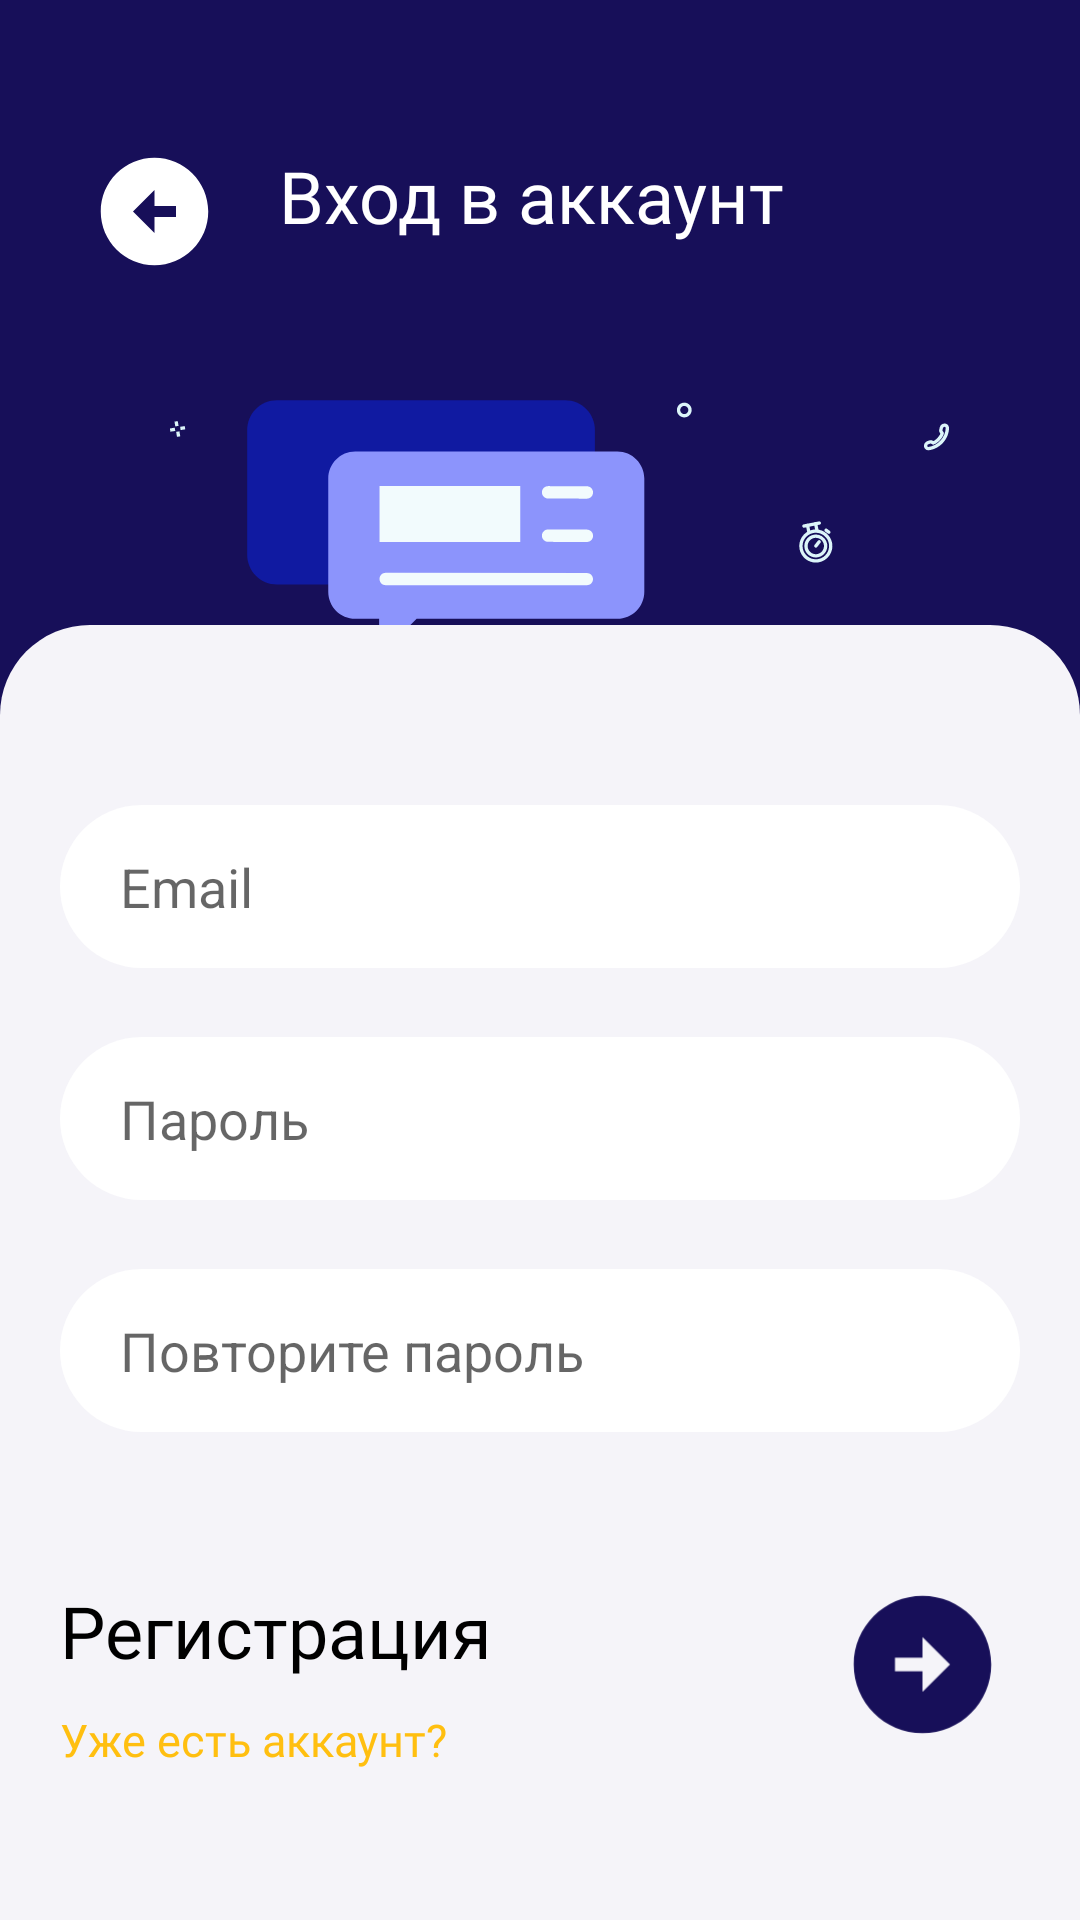

Named icons in this screenshot (1080 × 1920) and their centers, (x=x, y=y):
arrow backk: (x=154, y=211)
arrow goo: (x=922, y=1664)
